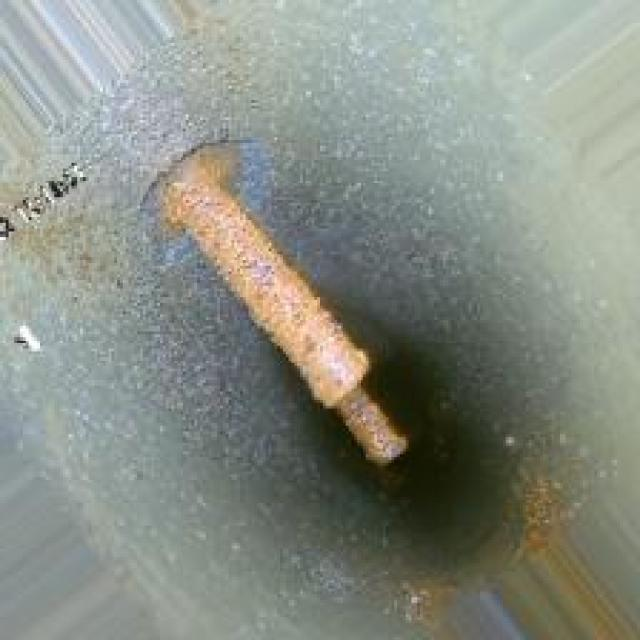ferrule: (134, 131, 420, 480)
